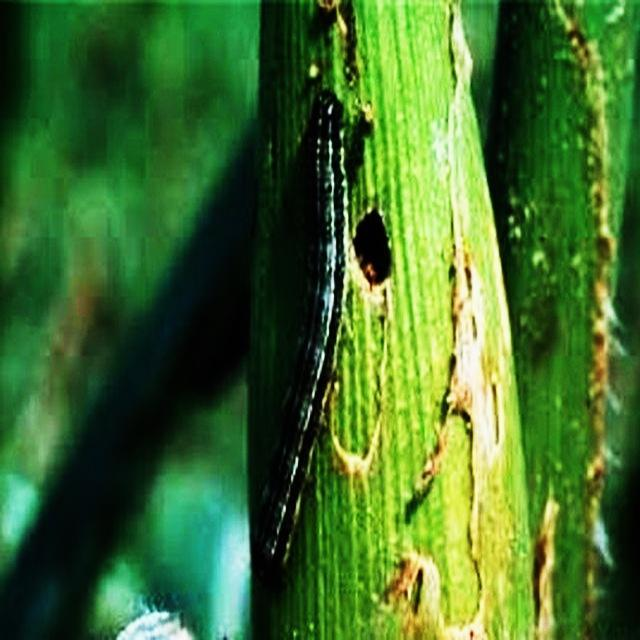Plaga: (247, 81, 352, 575)
